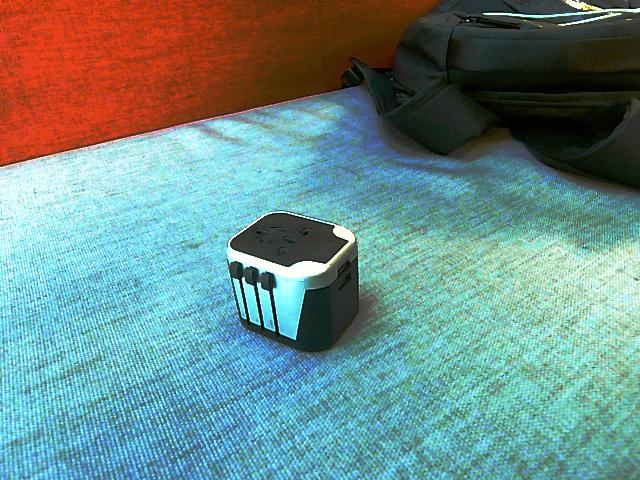adapter: (225, 210, 359, 352)
